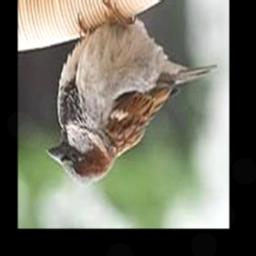Sparrow: (45, 0, 216, 186)
